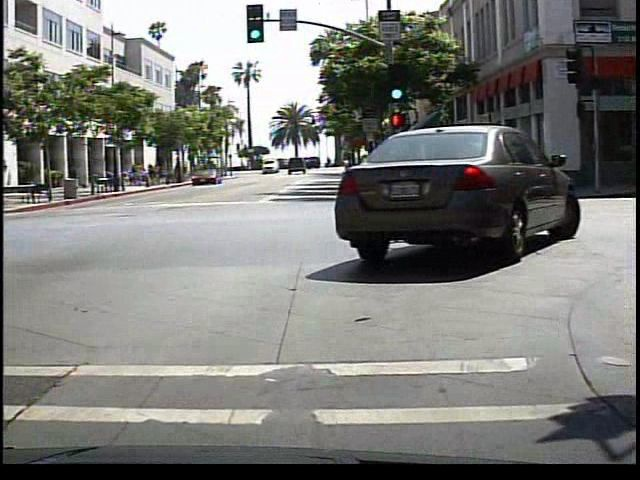person: (64, 161, 81, 193)
